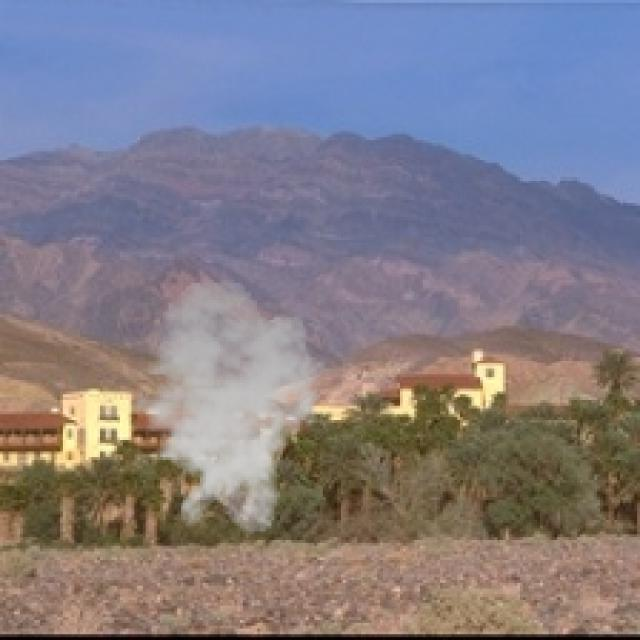smoke: (123, 277, 331, 537)
